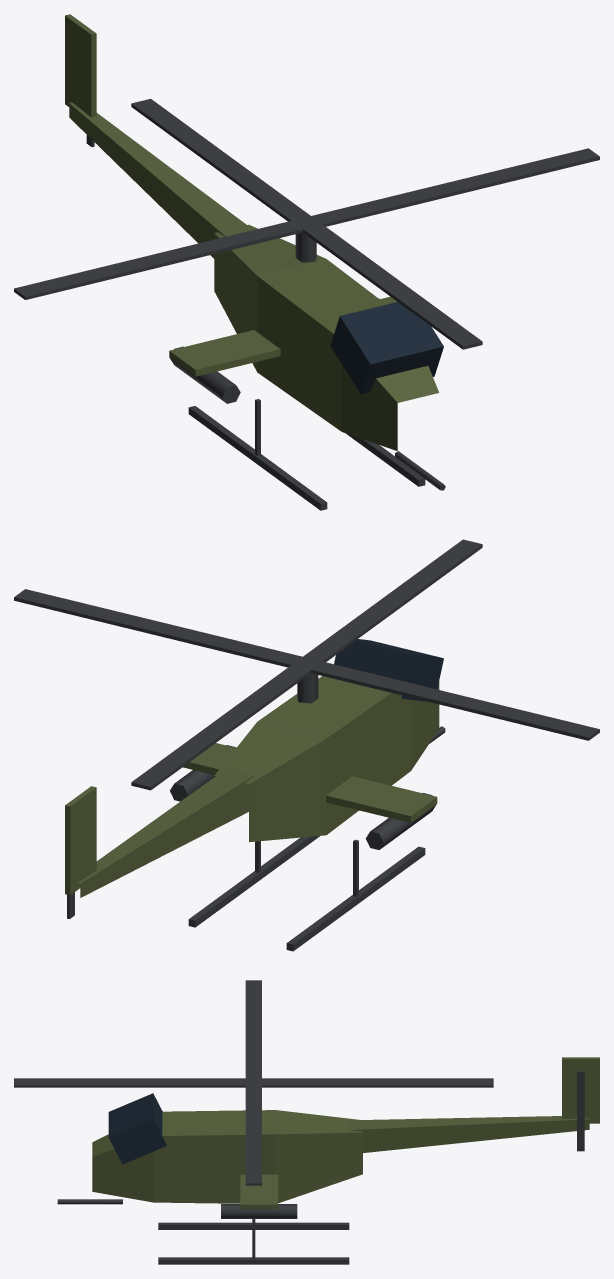
The model's file is veh_air_heli_attack_a06_lod2.glb.
3 views of the same model, one above another, from view 1: azimuth 30°, elevation 25°; view 2: azimuth 150°, elevation 25°; view 3: azimuth 270°, elevation 25° (orthographic). The views are drawn at different scales.
Parts seen in each view (by area): view 1: body, rotor; view 2: body, rotor; view 3: body, rotor, tail_rotor, gun.
Part boxes in pixels (left/top/right/bottom): body: left=65, top=14, right=443, bottom=510; rotor: left=14, top=98, right=599, bottom=349; body: left=65, top=639, right=443, bottom=951; rotor: left=14, top=539, right=599, bottom=790; body: left=92, top=1057, right=599, bottom=1264; rotor: left=14, top=980, right=493, bottom=1185; tail_rotor: left=577, top=1071, right=584, bottom=1151; gun: left=57, top=1199, right=122, bottom=1204.
Bounding box in the file's own units: 8.8 × 3.8 × 10.75.
